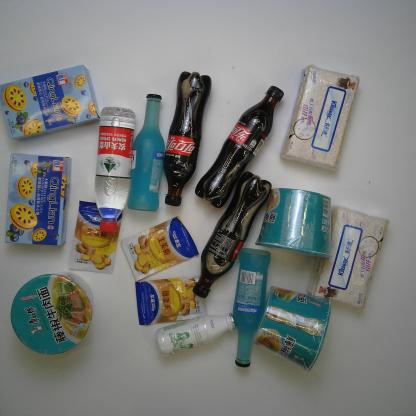Alcohol: (231, 247, 272, 369), (125, 93, 167, 212)
Dessert: (0, 64, 101, 139), (5, 152, 72, 247)
Drink: (194, 85, 285, 209), (191, 170, 273, 299), (163, 70, 213, 207), (93, 106, 138, 235)
Instant Noodles: (10, 270, 96, 356), (252, 285, 333, 373), (254, 186, 333, 260)
Milk: (154, 311, 236, 357)
Seasoner: (120, 216, 200, 282), (67, 198, 123, 276), (134, 274, 208, 326)
Tissue: (279, 63, 361, 171), (308, 206, 390, 312)
